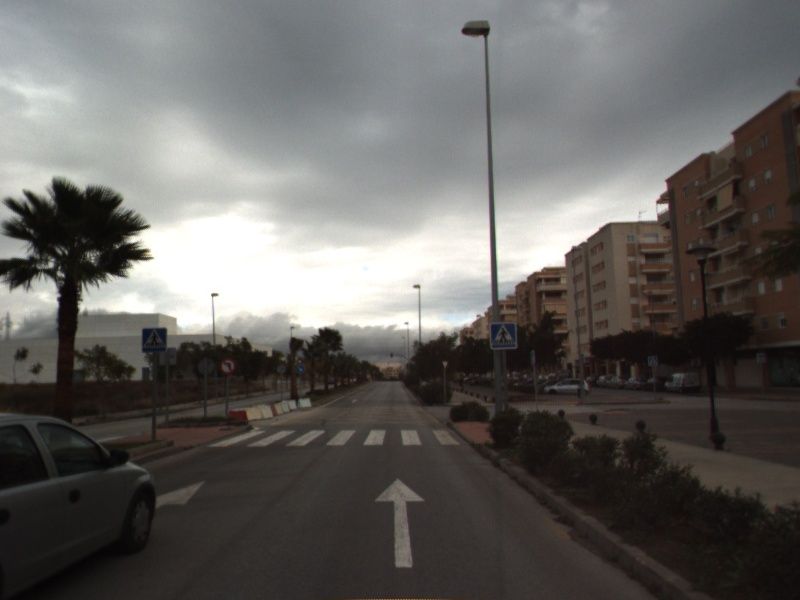STRAIGHT: (372, 476, 427, 569)
